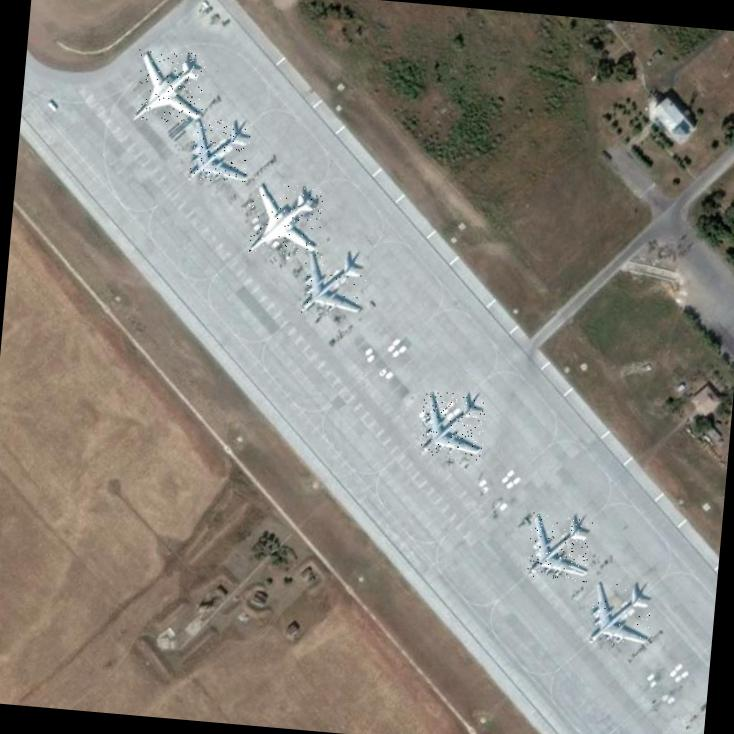A17: (418, 390, 487, 460), (300, 247, 368, 318), (526, 512, 592, 582), (589, 580, 653, 648), (189, 117, 253, 184)
A6: (248, 182, 324, 258), (132, 48, 206, 124)
